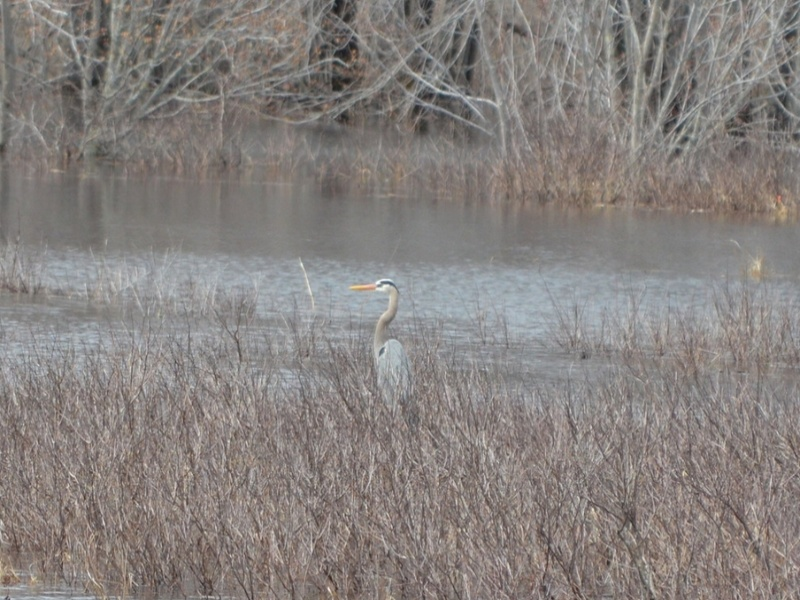heron: (347, 277, 421, 423)
